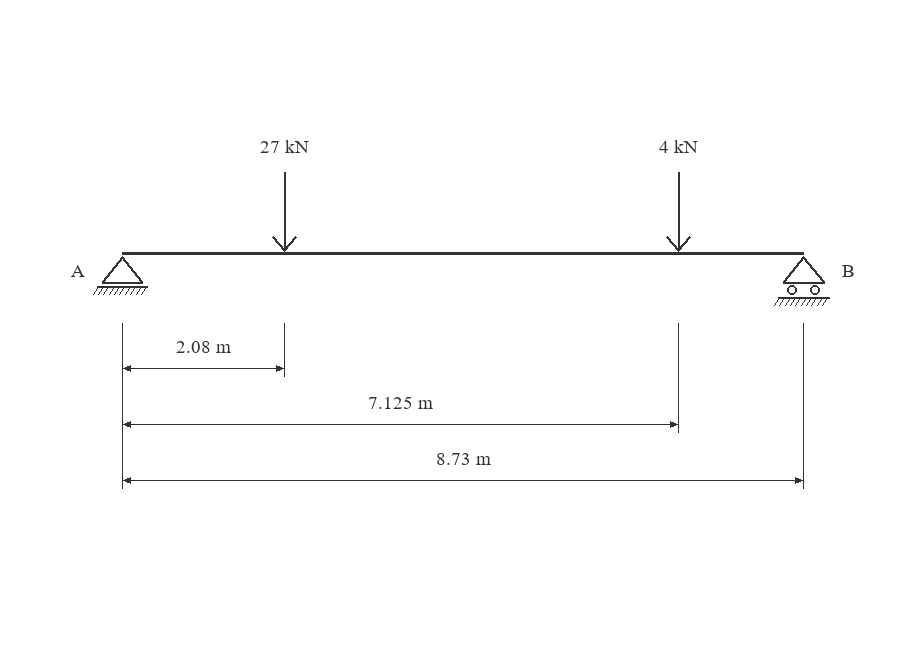pin_support: (93, 256, 148, 295)
point_load: (272, 172, 297, 252), (666, 172, 691, 252)
roller_support: (774, 256, 830, 306)
